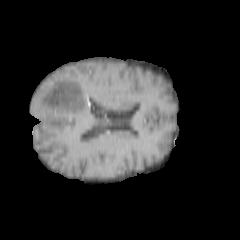glioma: (36, 79, 101, 127)
